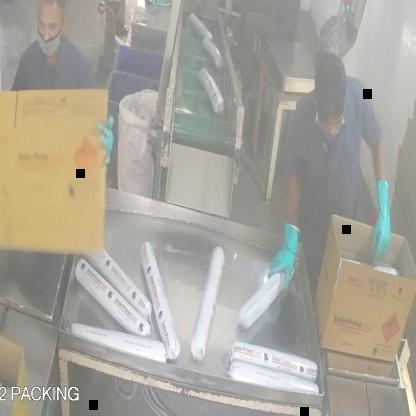glove: (262, 211, 308, 292), (366, 165, 394, 275)
